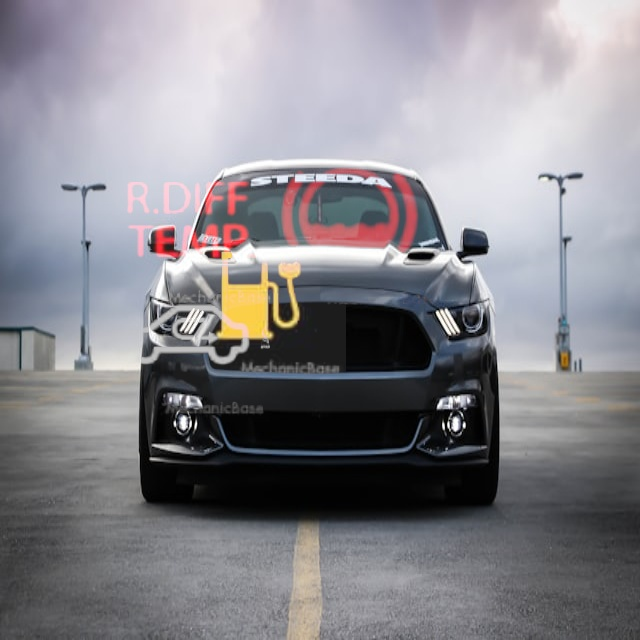symbol: (252, 121, 445, 314), (97, 131, 278, 312), (173, 210, 346, 383), (99, 251, 270, 422)
